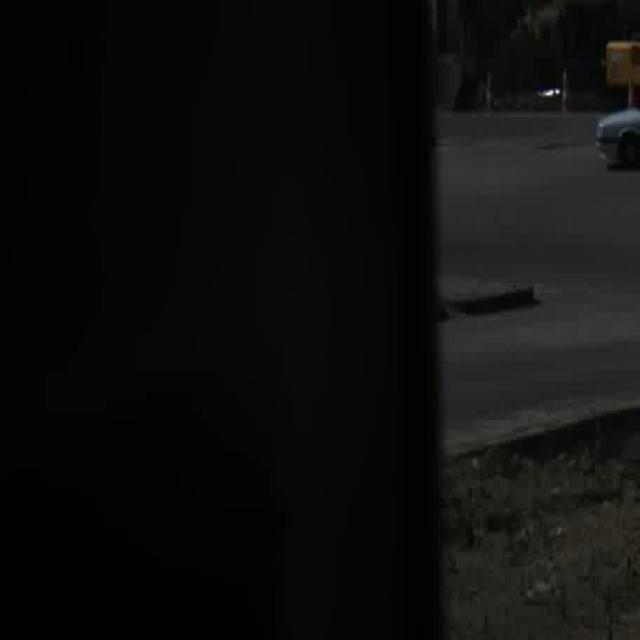Car: (591, 100, 640, 167)
